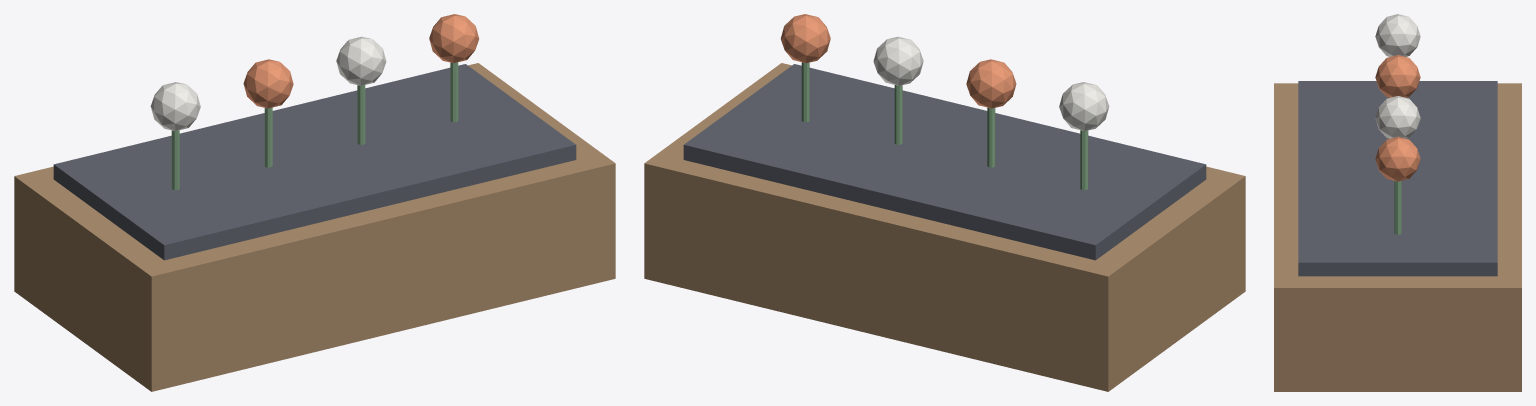
3 renders of one model, left to right at view 1: azimuth 30°, elevation 25°; view 2: azimuth 150°, elevation 25°; view 3: azimuth 270°, elevation 25°, orthographic. The views are drawn at different scales.
Visible parts, largest first — view 1: Bed, Soil, Bloom.1, Bloom.2, Bloom.3, Bloom.4, Stem.4, Stem.1, Stem.2, Stem.3; view 2: Bed, Soil, Bloom.1, Bloom.2, Bloom.3, Bloom.4, Stem.4, Stem.1, Stem.2, Stem.3; view 3: Bed, Soil, Bloom.4, Bloom.2, Bloom.1, Bloom.3, Stem.4.
Boxes of the visible parts, <box> form: Bed: <box>14,63,615,391</box>; Soil: <box>53,64,576,260</box>; Bloom.1: <box>150,82,200,131</box>; Bloom.2: <box>243,59,293,108</box>; Bloom.3: <box>336,36,386,85</box>; Bloom.4: <box>429,14,479,63</box>; Stem.4: <box>450,62,458,122</box>; Stem.1: <box>171,130,179,190</box>; Stem.2: <box>264,107,272,167</box>; Stem.3: <box>357,85,365,144</box>; Bed: <box>644,63,1245,391</box>; Soil: <box>683,64,1206,260</box>; Bloom.1: <box>1059,82,1109,131</box>; Bloom.2: <box>966,59,1016,108</box>; Bloom.3: <box>873,36,923,85</box>; Bloom.4: <box>780,14,830,63</box>; Stem.4: <box>801,62,809,122</box>; Stem.1: <box>1080,130,1088,190</box>; Stem.2: <box>987,107,995,167</box>; Stem.3: <box>894,85,902,144</box>; Bed: <box>1274,83,1521,391</box>; Soil: <box>1298,81,1497,276</box>; Bloom.4: <box>1375,136,1420,181</box>; Bloom.2: <box>1375,55,1420,97</box>; Bloom.1: <box>1375,14,1420,56</box>; Bloom.3: <box>1375,96,1420,138</box>; Stem.4: <box>1394,181,1401,234</box>.
Bounding box in the file's own units: 1.6 × 0.775 × 0.82.
